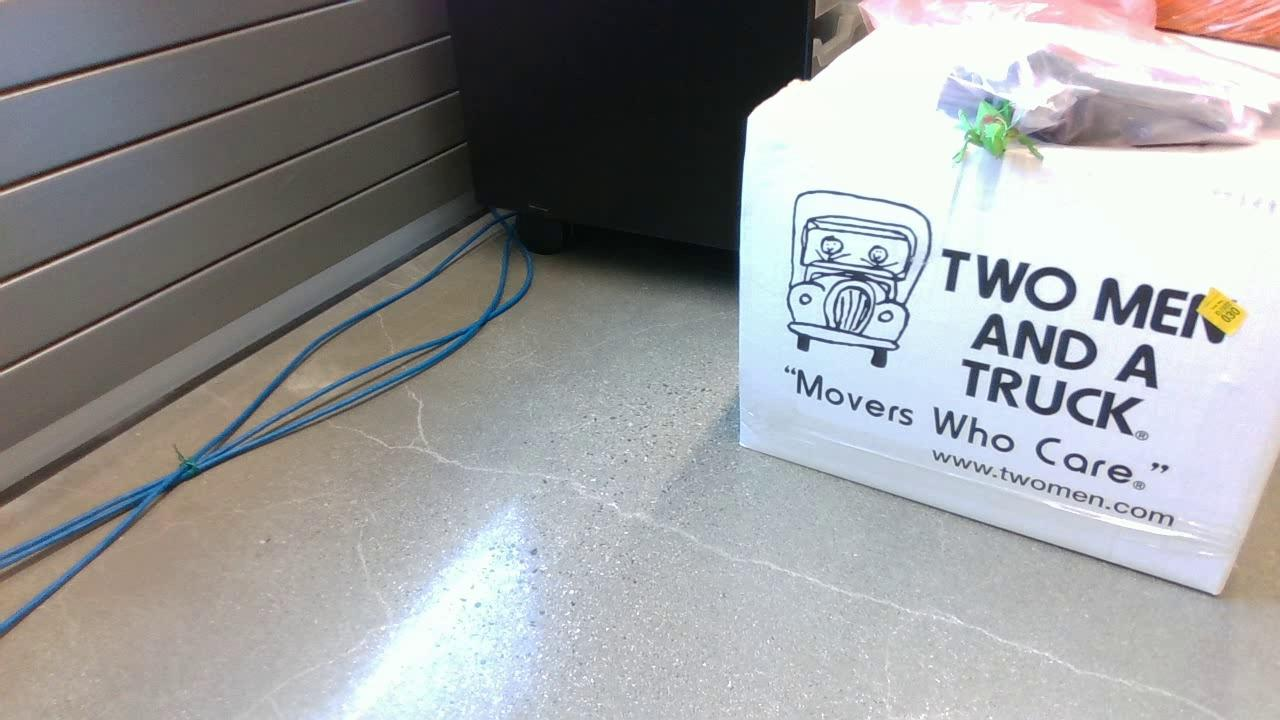grasshopper: (942, 92, 1046, 163)
